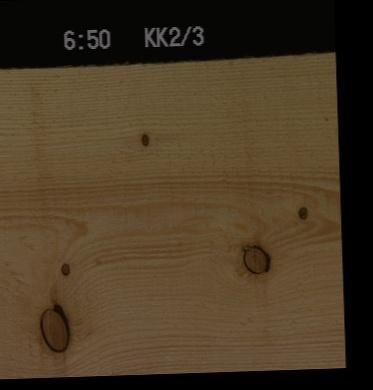dry_knot: (59, 260, 70, 277), (296, 204, 307, 220), (139, 131, 149, 147)
